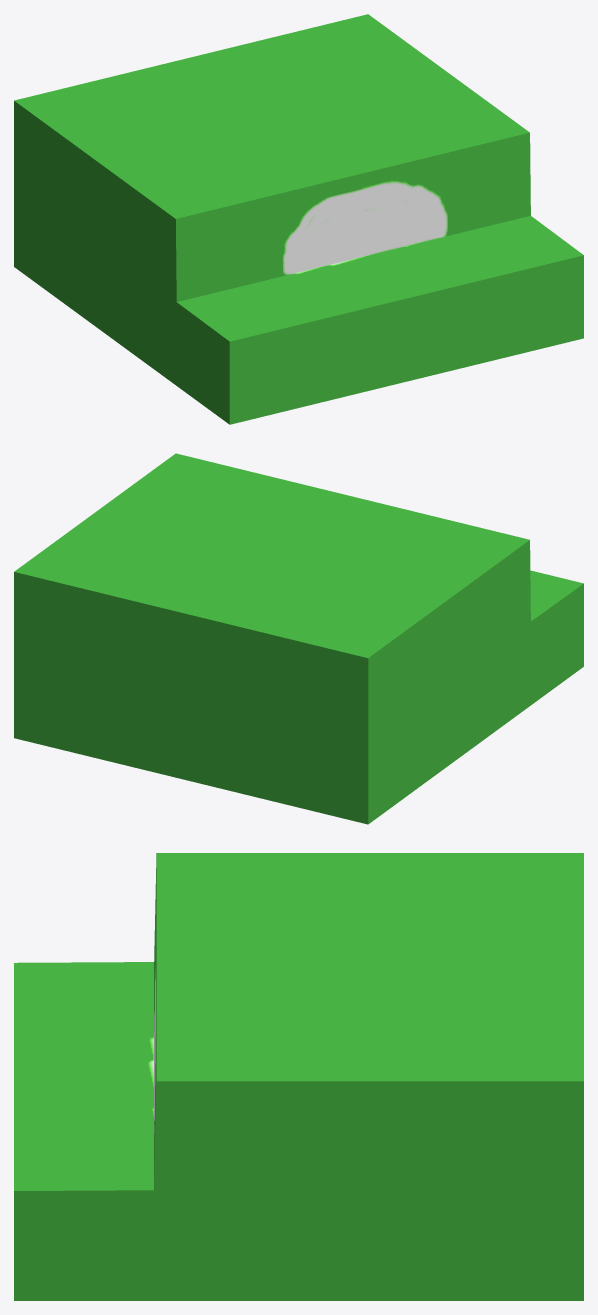
File: PlayerHat.obj
3 views of the same model, one above another, from view 1: azimuth 30°, elevation 25°; view 2: azimuth 150°, elevation 25°; view 3: azimuth 270°, elevation 25° (orthographic). The views are drawn at different scales.
Visible parts, largest first — view 1: 立方体; view 2: 立方体; view 3: 立方体.
Part boxes in pixels (x1,y1,x2,y2): 立方体: (14,14,583,424); 立方体: (14,453,583,824); 立方体: (14,853,583,1300).
Size of the model in its own units: 0.662 by 0.2971 by 0.6986.
1 material, 1 textured.
